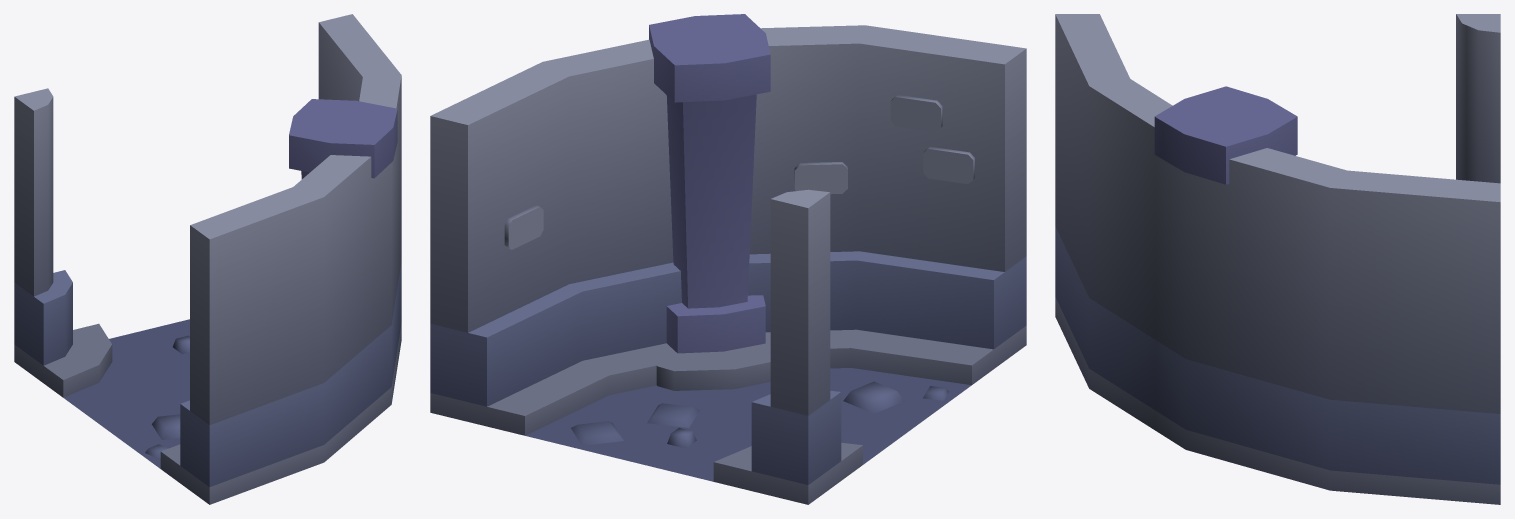
The model's file is corridor-corner.fbx.
The picture shows the model from 3 angles, left to right: view 1: azimuth 30°, elevation 25°; view 2: azimuth 150°, elevation 25°; view 3: azimuth 270°, elevation 25°; orthographic projection. The views are drawn at different scales.
Visible parts, largest first — view 1: corridor-corner; view 2: corridor-corner; view 3: corridor-corner.
Boxes of the visible parts, bbox=[...] form: corridor-corner: bbox=[14, 14, 401, 504]; corridor-corner: bbox=[430, 14, 1026, 504]; corridor-corner: bbox=[1055, 14, 1500, 504].
Bounding box in the file's own units: 400 × 313 × 400.
1 material, 1 textured.
